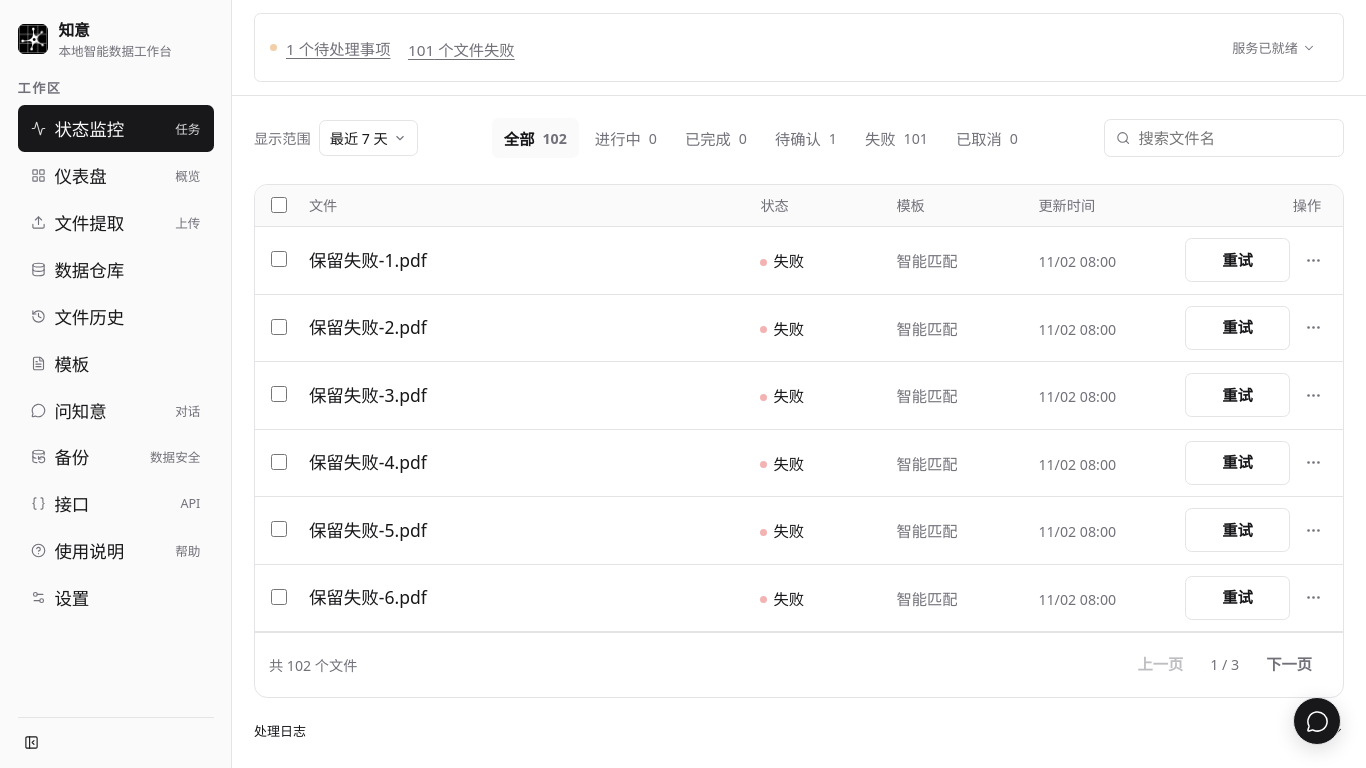
Test: global pending shortcut › opens failed files on the mounted page and clears the old query, page and selection
This screenshot has width=1366, height=768.
Expected: the button "1 个待处理事项" is shown, [286, 37, 390, 59]
Click the button "失败 101": [896, 138] box [853, 118, 940, 158]
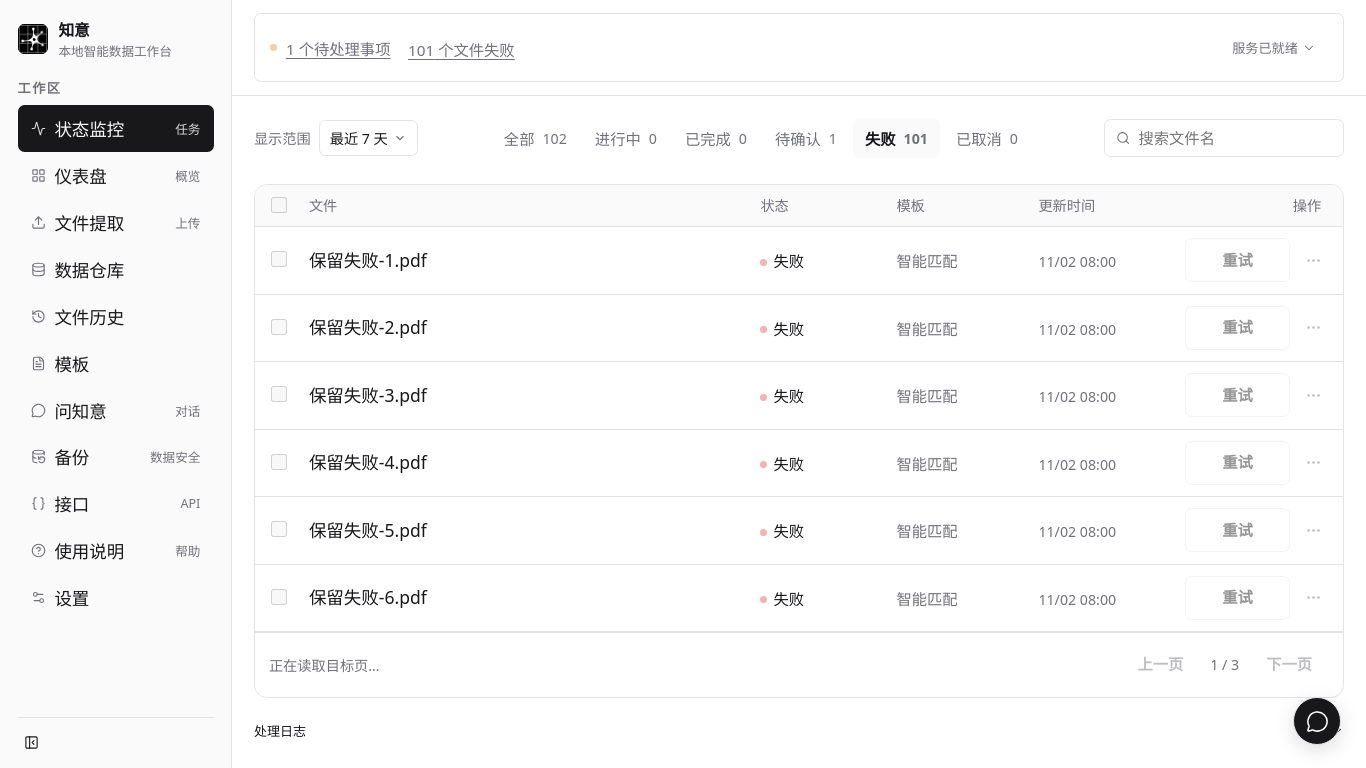
In the field named "搜索任务文件名": [1235, 138] box [1138, 128, 1332, 148], type "保留"
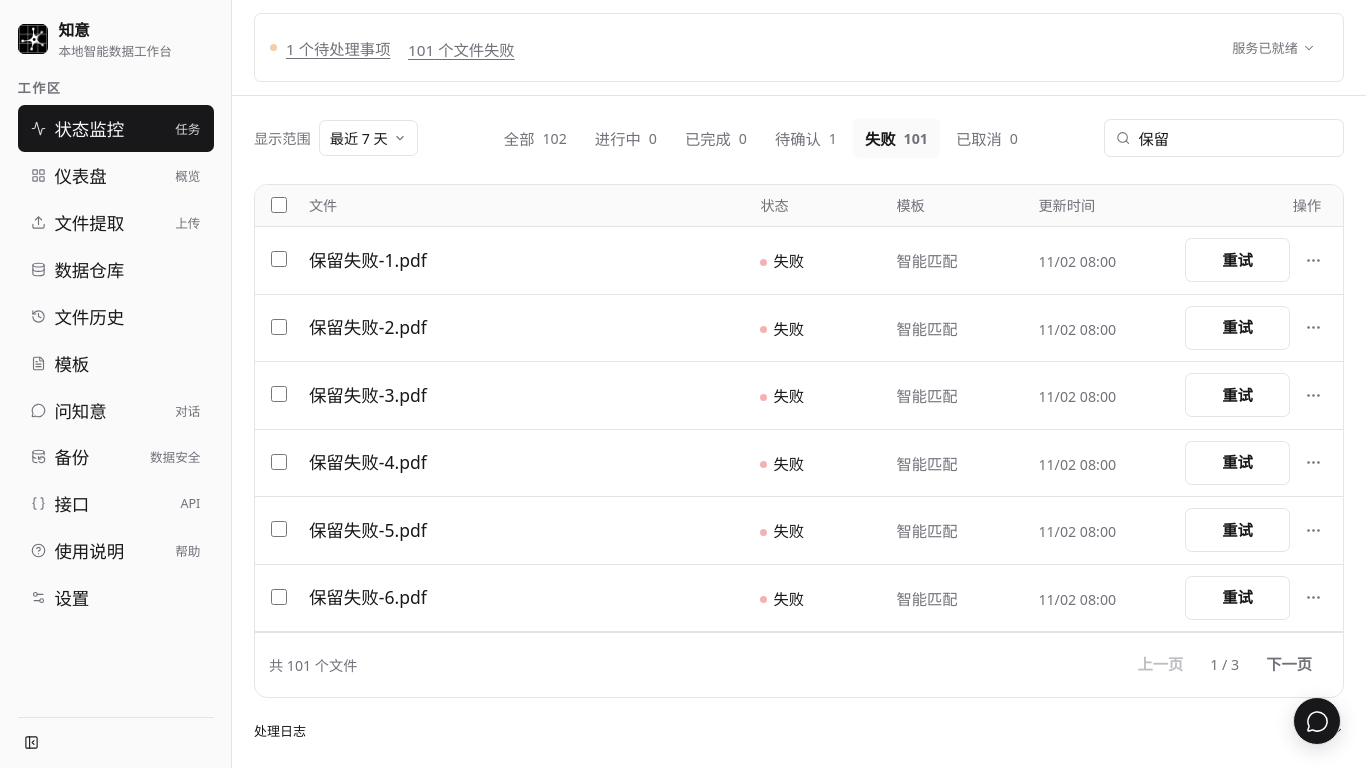
Result: the button "下一页" is enabled
Click the button "下一页": [1289, 665] box [1249, 643, 1329, 687]
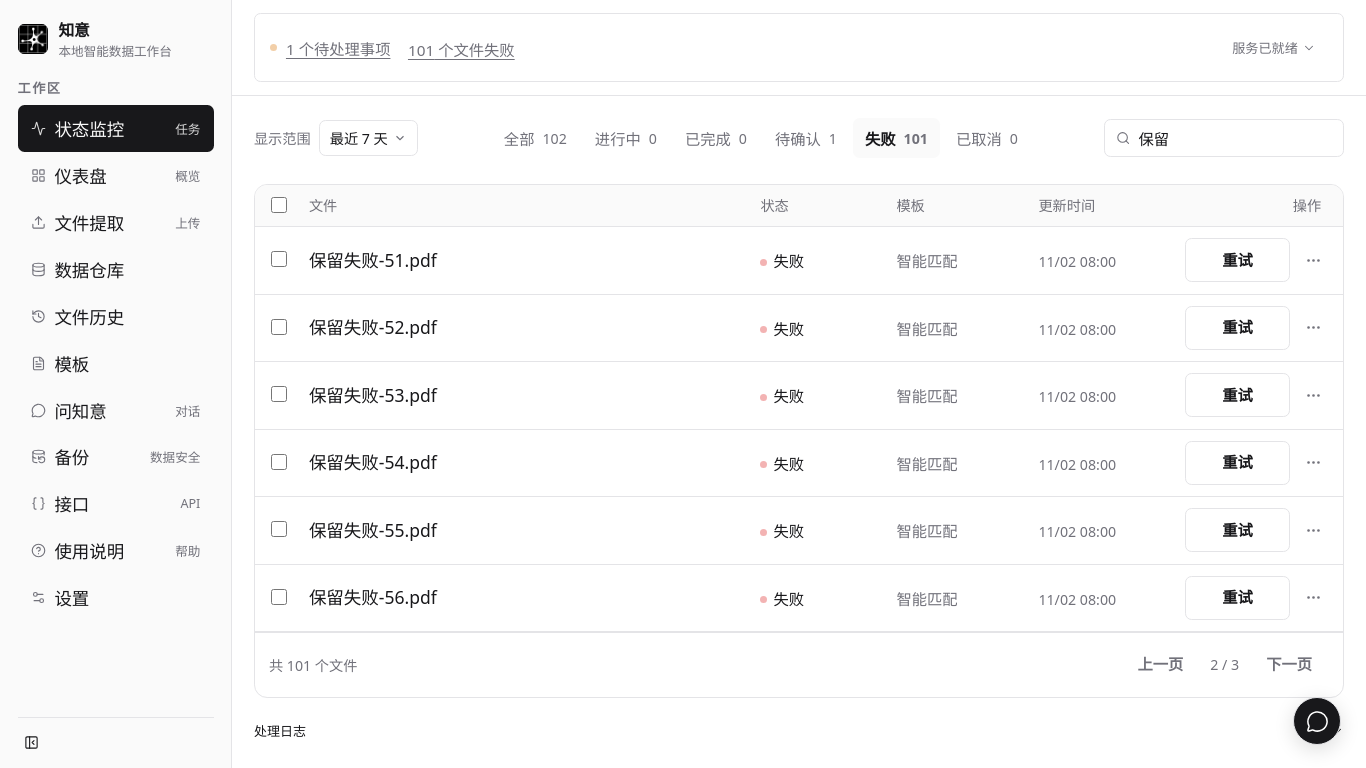
Result: the text "保留失败-51.pdf" is shown at [309, 248, 437, 272]
Result: the button "上一页" is enabled at [1120, 643, 1200, 687]
Click the checkbox named "选择本页任务": [279, 205] box [271, 197, 287, 213]
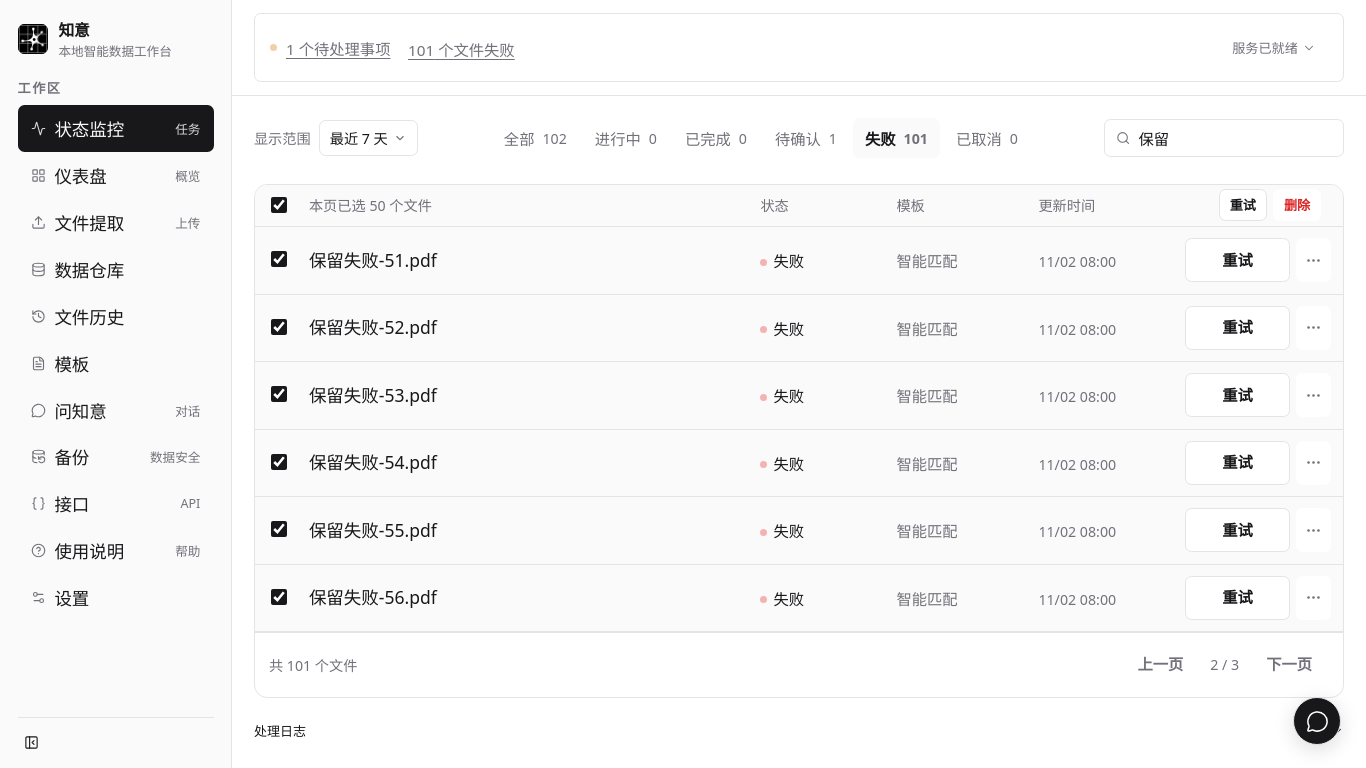
Result: the text "本页已选 50 个文件" is shown at [309, 196, 432, 215]
Click the button "101 个文件失败": [461, 49] box [408, 38, 515, 60]
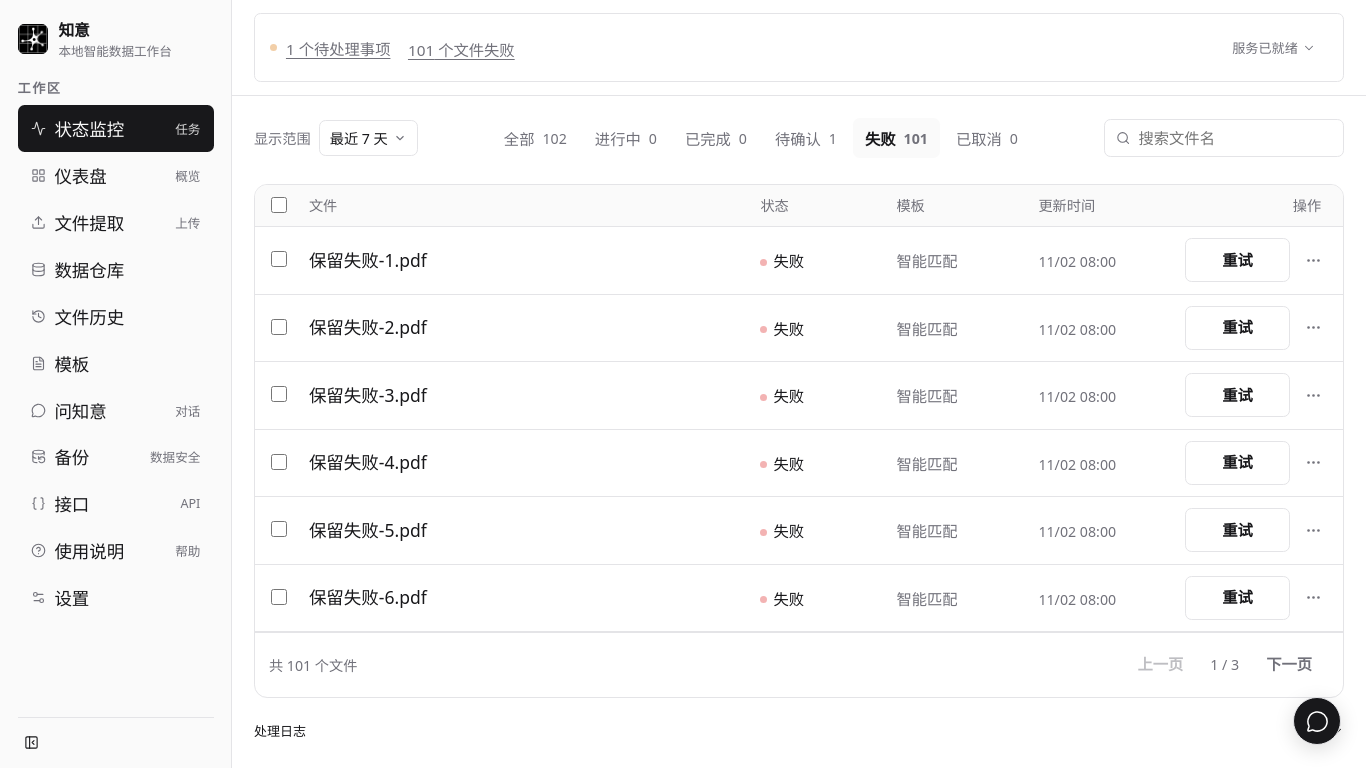
Result: the field named "搜索任务文件名" is empty at [1138, 128, 1332, 148]
Result: the text "保留失败-1.pdf" is shown at [309, 248, 427, 272]
Result: the button "上一页" is disabled at [1120, 643, 1200, 687]
